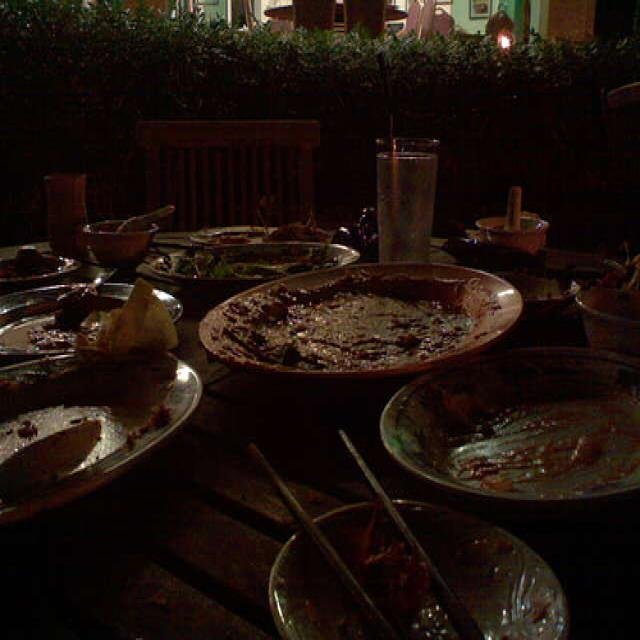chair: (133, 115, 322, 233)
diningtable: (1, 221, 640, 639)
